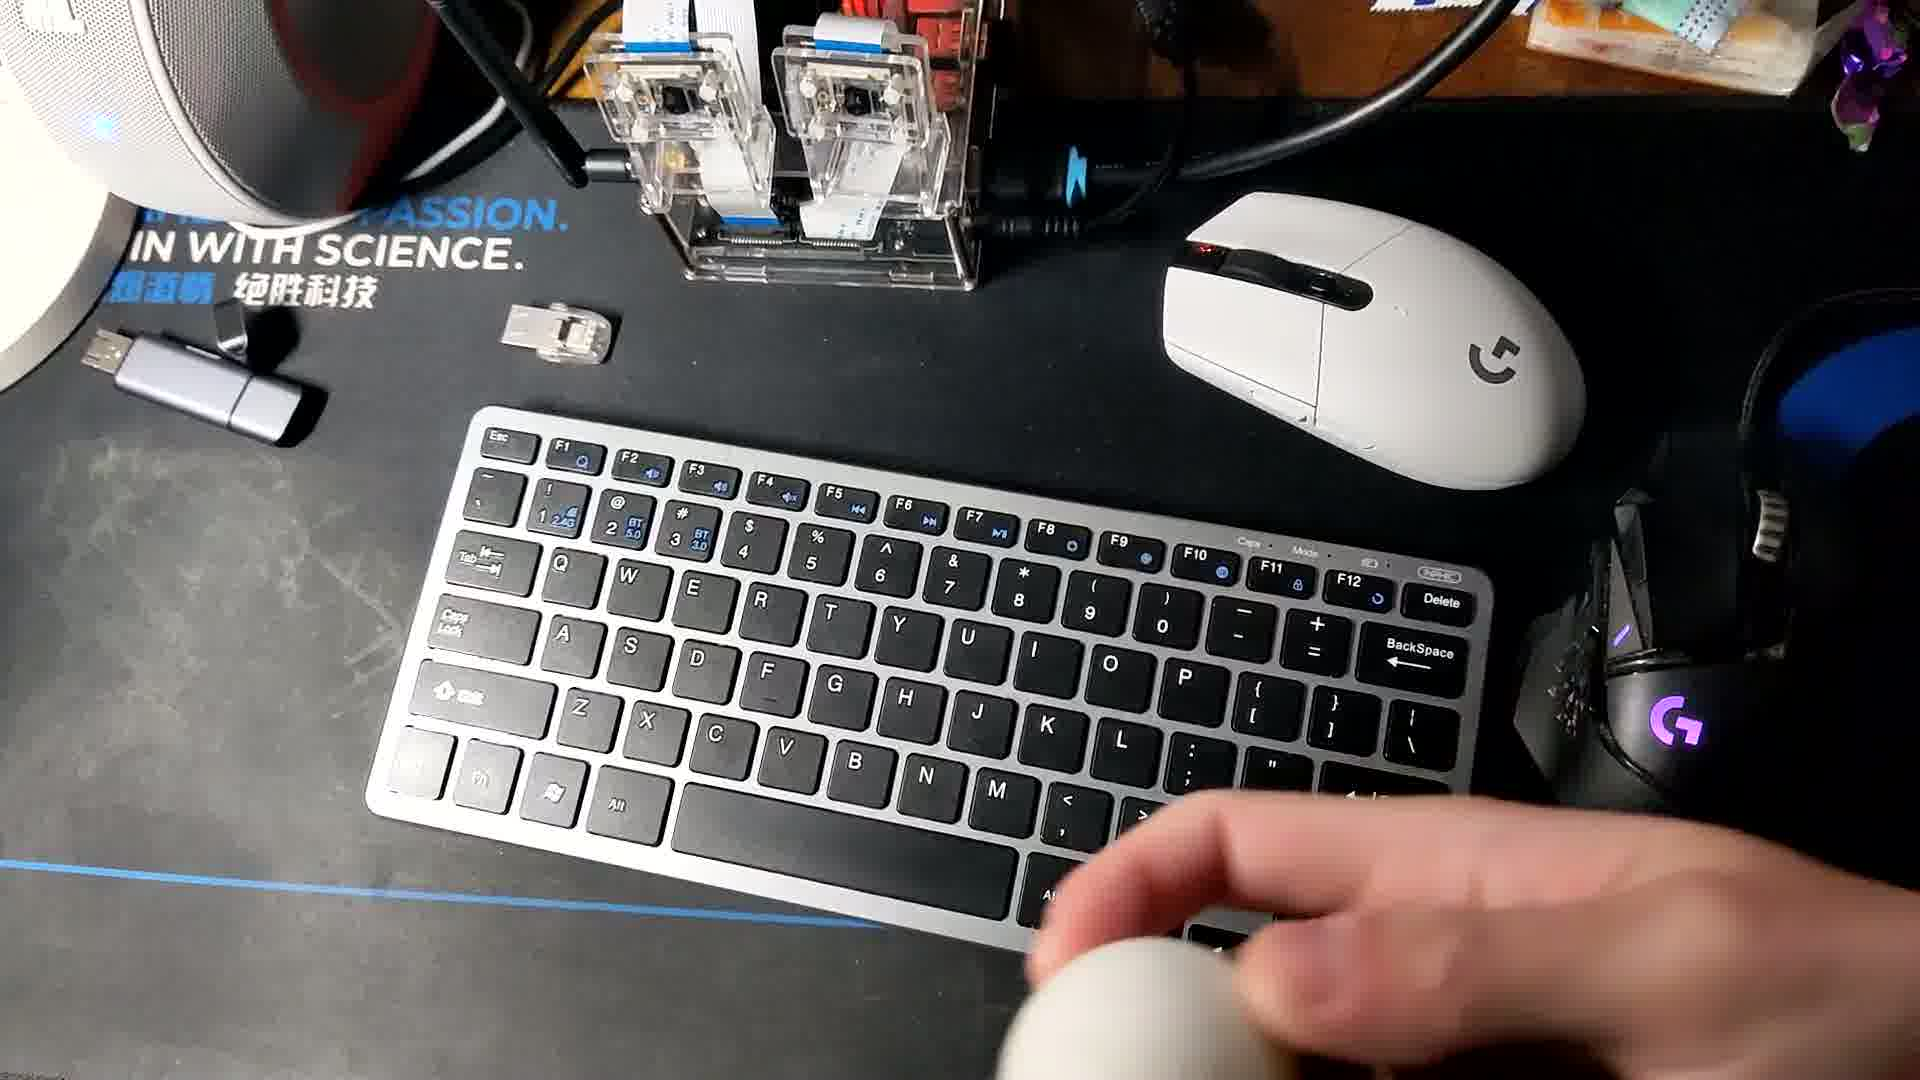Ball: (997, 938, 1298, 1080)
